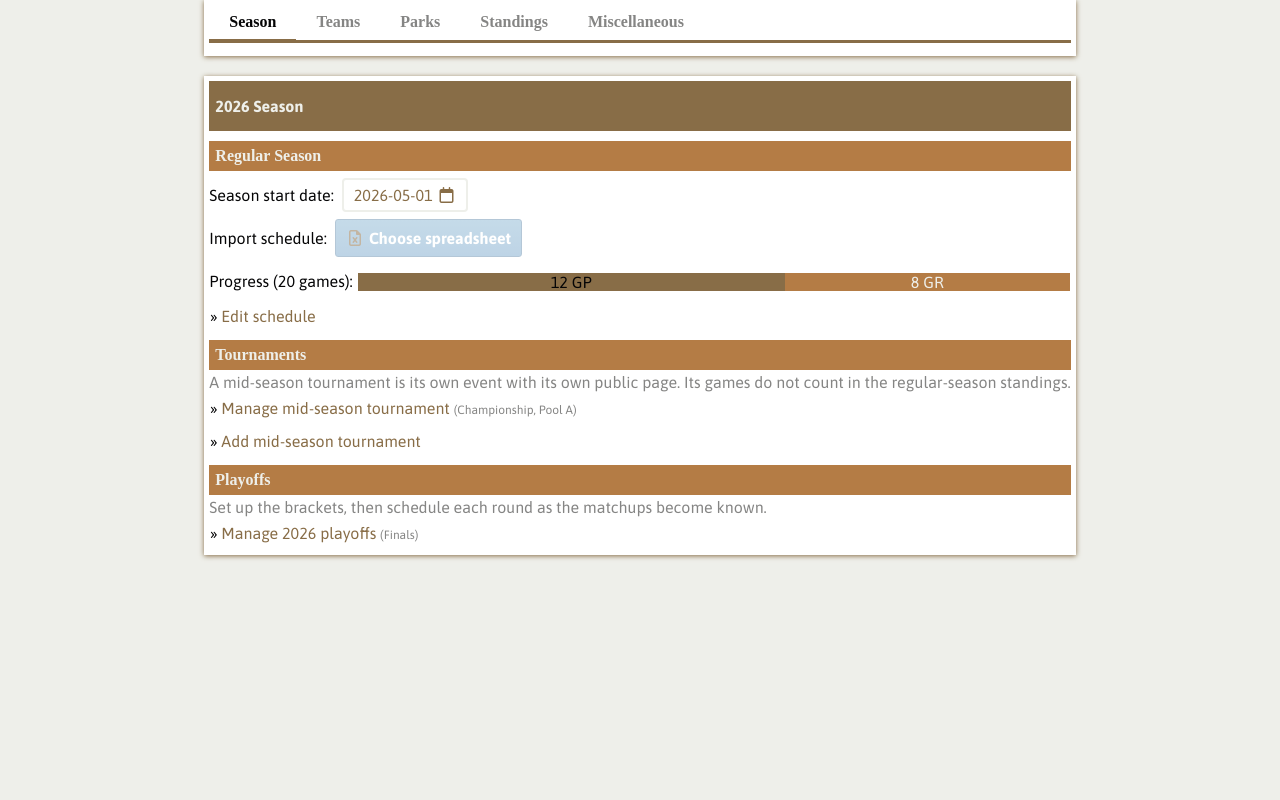
Test: Executive Page › choosing another year fetches and shows that year's rules
Step 1. Click the button "Standings" → (514, 24), box [460,5,568,43]
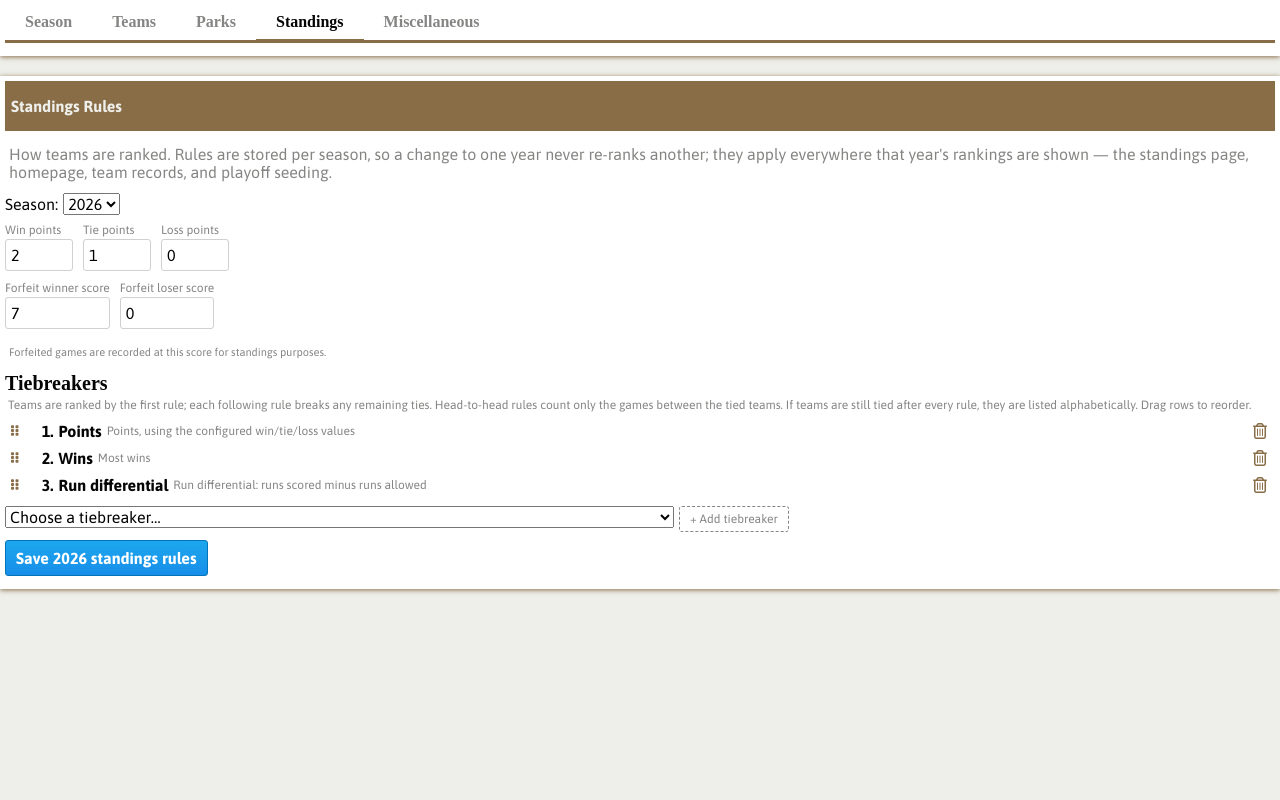
Step 2. Select "2025" in the dropdown named "Season year" → (92, 204), box [63,193,120,215]
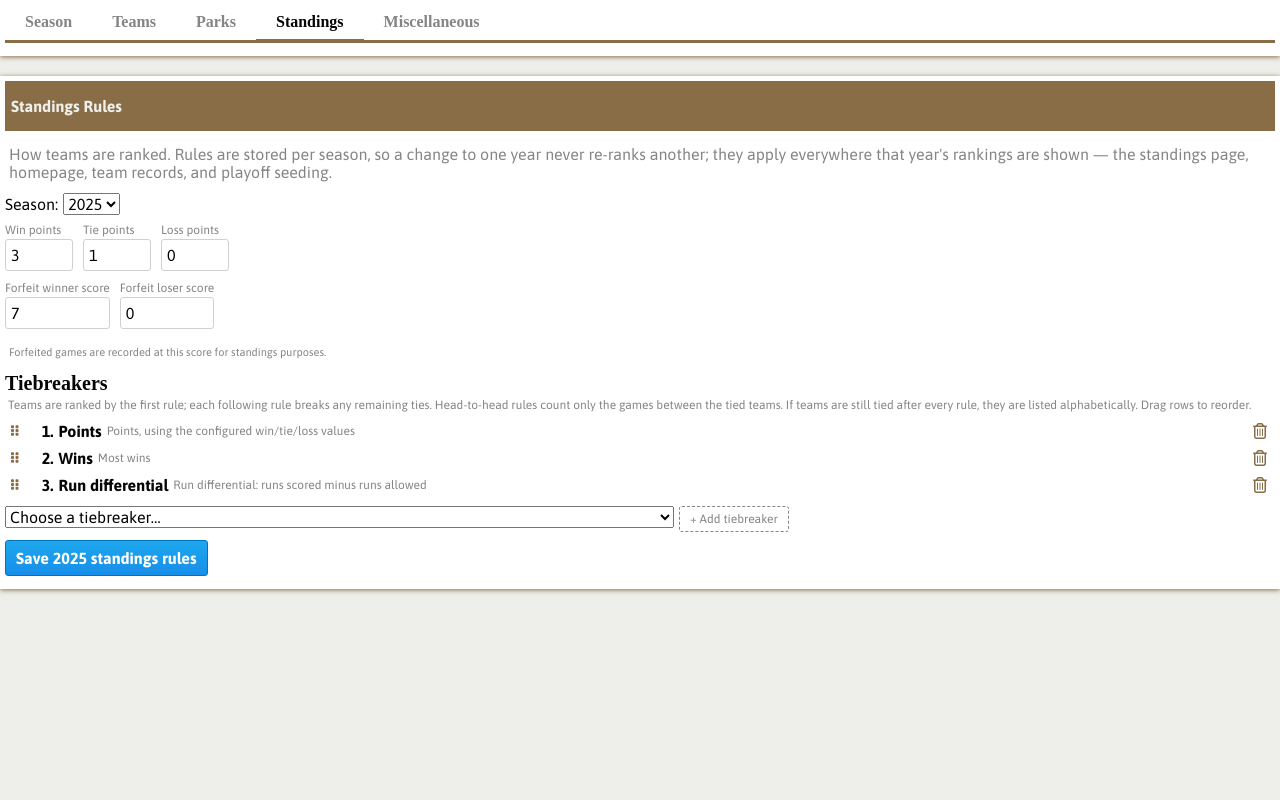
Expected: the number field labelled "Win points" holds "3", [5,239,73,271]
Expected: the button "Save 2025 standings rules" is shown, [5,540,208,576]
